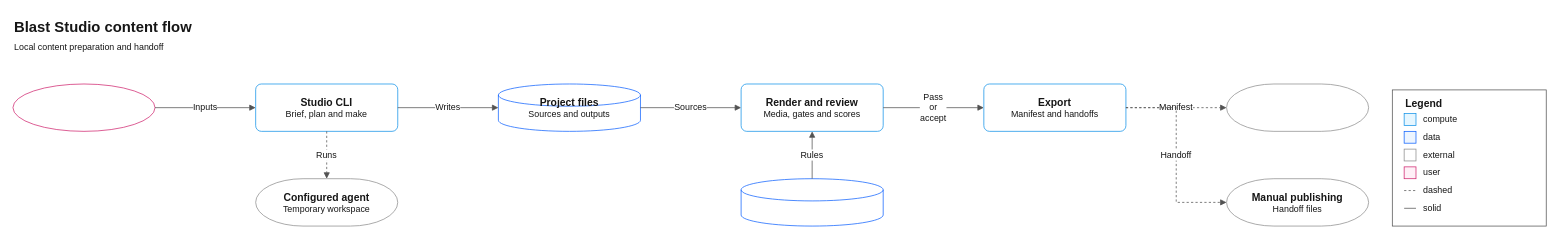
The diagram is 1559 pixels wide and 239 high, and some of its shapes have lost their labels. The shapes that lost their labels are listed below. From the top down, each one's centre as x and y in pixels, then its label:
At point 83,107: "Author".
At point 1297,107: "Market Blaster Optional import".
At point 811,202: "Platform packs Policy and rubrics".
